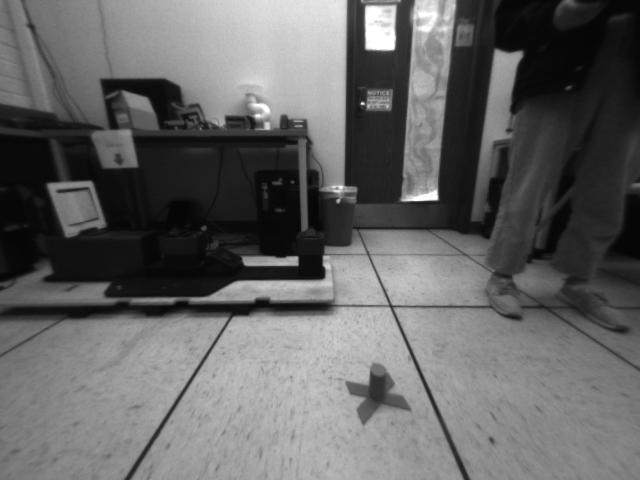x: (347, 361, 409, 425)
